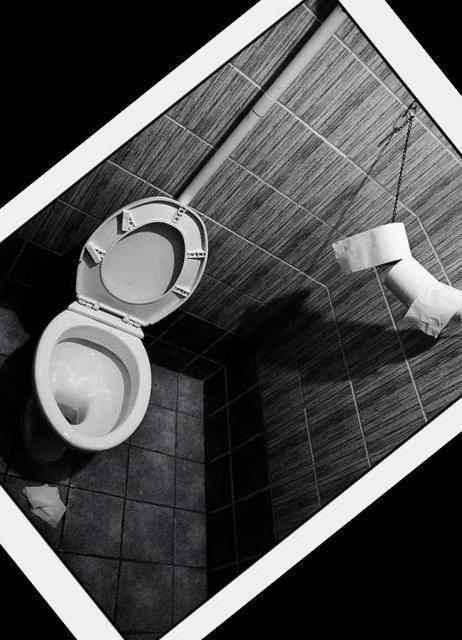Sanitario: (0, 174, 283, 496)
